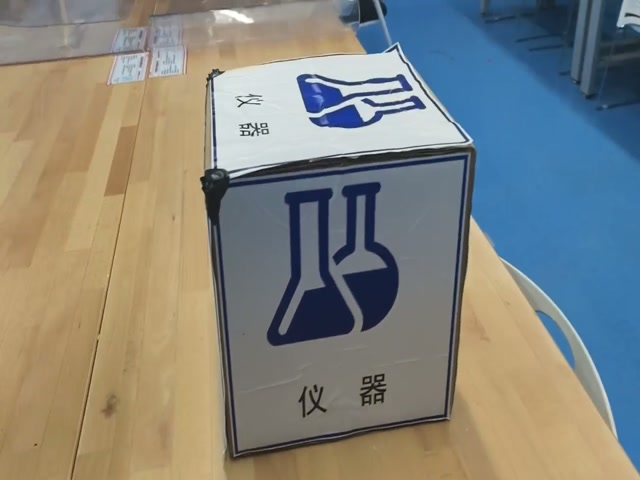Cube_ins: (205, 47, 473, 174)
